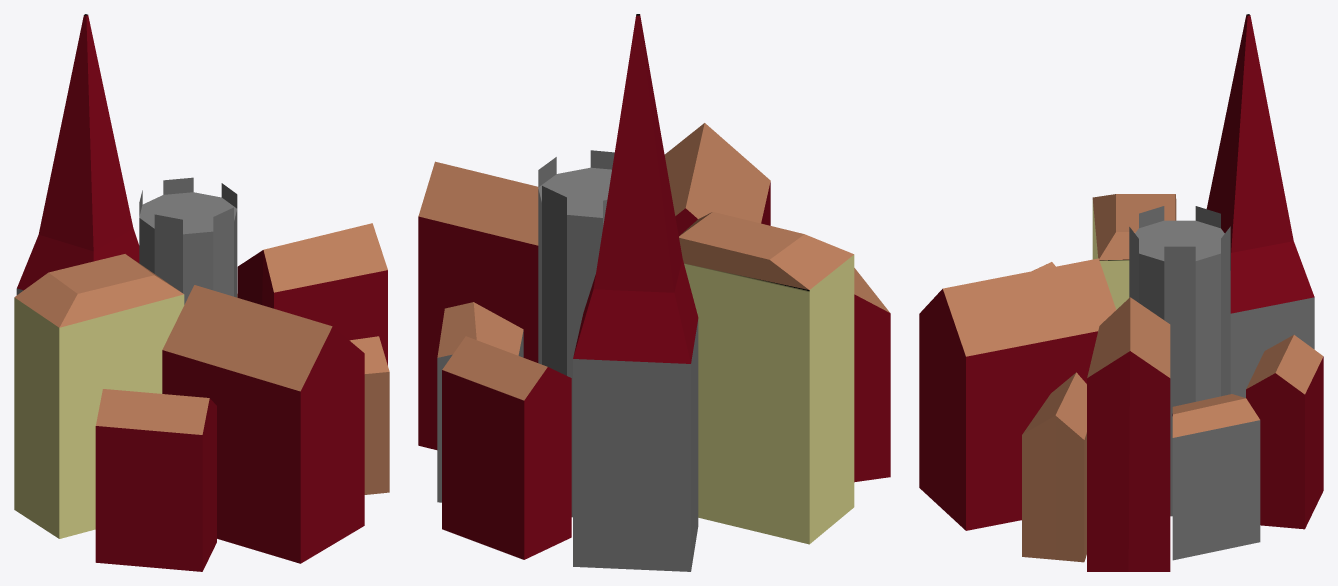
File: stadUtzoomad.glb
The picture shows the model from 3 angles, left to right: view 1: azimuth 30°, elevation 25°; view 2: azimuth 150°, elevation 25°; view 3: azimuth 270°, elevation 25°; orthographic projection. The views are drawn at different scales.
Parts seen in each view (by area): view 1: Cylinder; view 2: Cylinder; view 3: Cylinder.
Part boxes in pixels (x1,y1,x2,y2): Cylinder: [14, 14, 389, 571]; Cylinder: [418, 14, 890, 571]; Cylinder: [919, 14, 1323, 571].
Size of the model in its own units: 1.99 by 2.51 by 2.05.
1 material, 1 textured.
